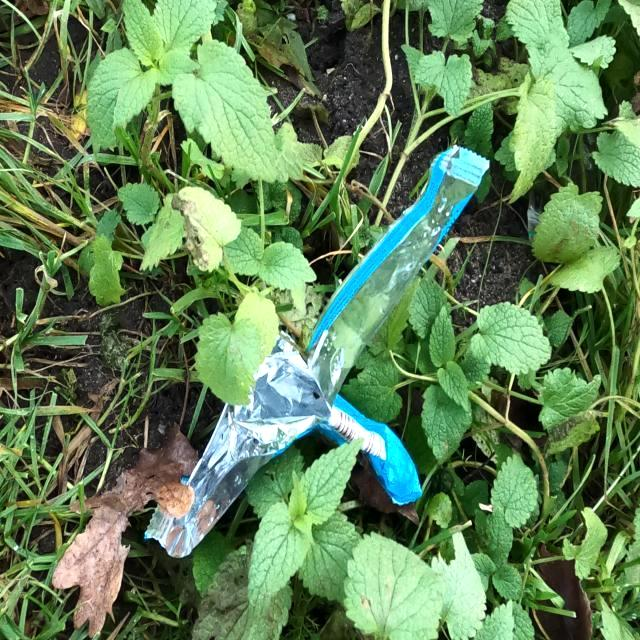Plastic: (143, 143, 490, 559)
